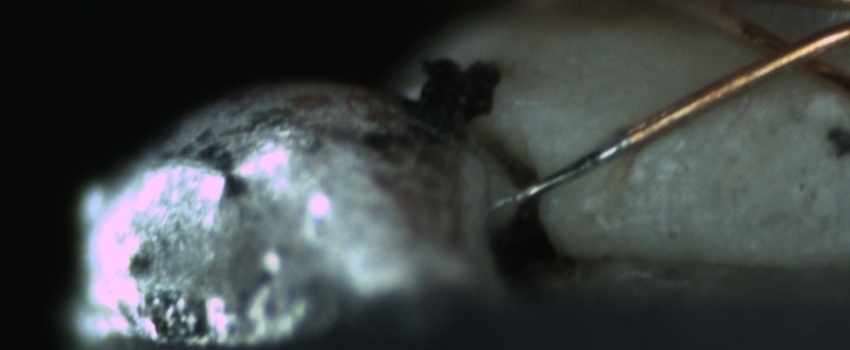CL: (737, 21, 846, 89)
TS: (506, 135, 635, 208)
TTCW: (502, 104, 665, 213)
